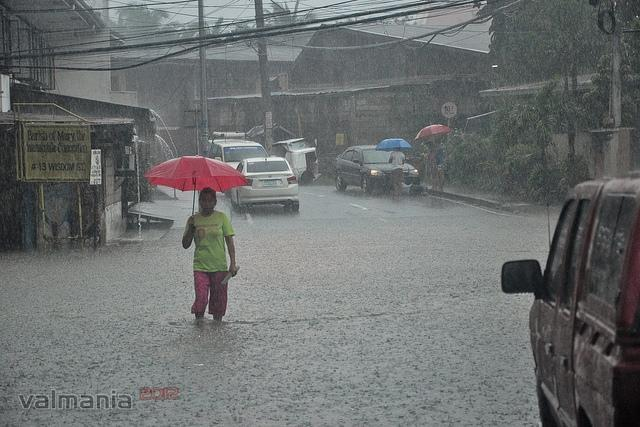car: (499, 186, 639, 422), (332, 138, 421, 194), (230, 155, 298, 214)
truck: (206, 132, 270, 170)
